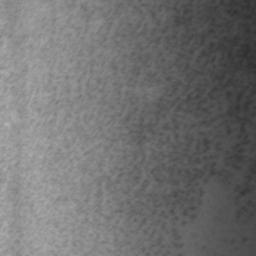Pitted surface: (0, 0, 218, 256), (228, 127, 256, 195)
